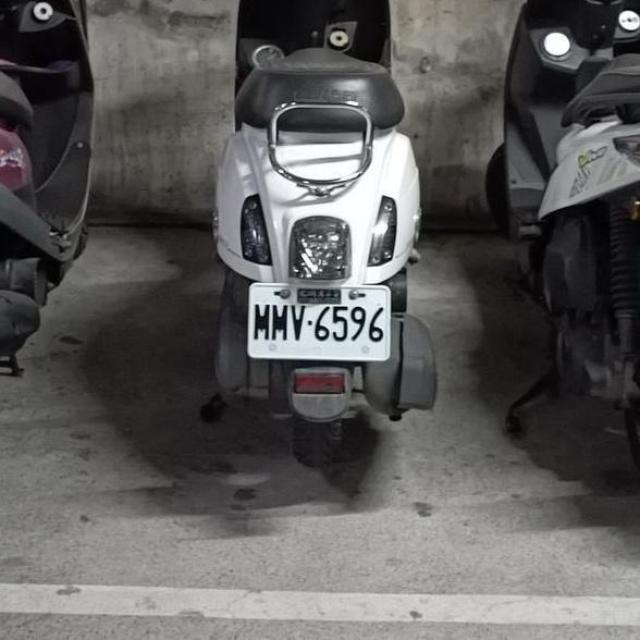W: (246, 279, 391, 361)
